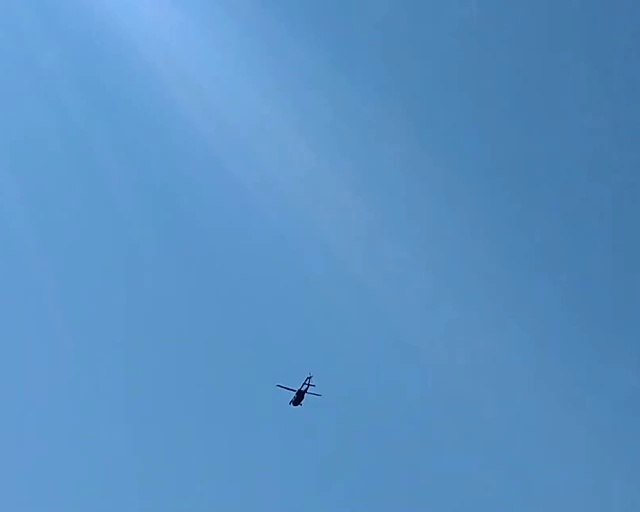HELICOPTER: (275, 372, 321, 407)
